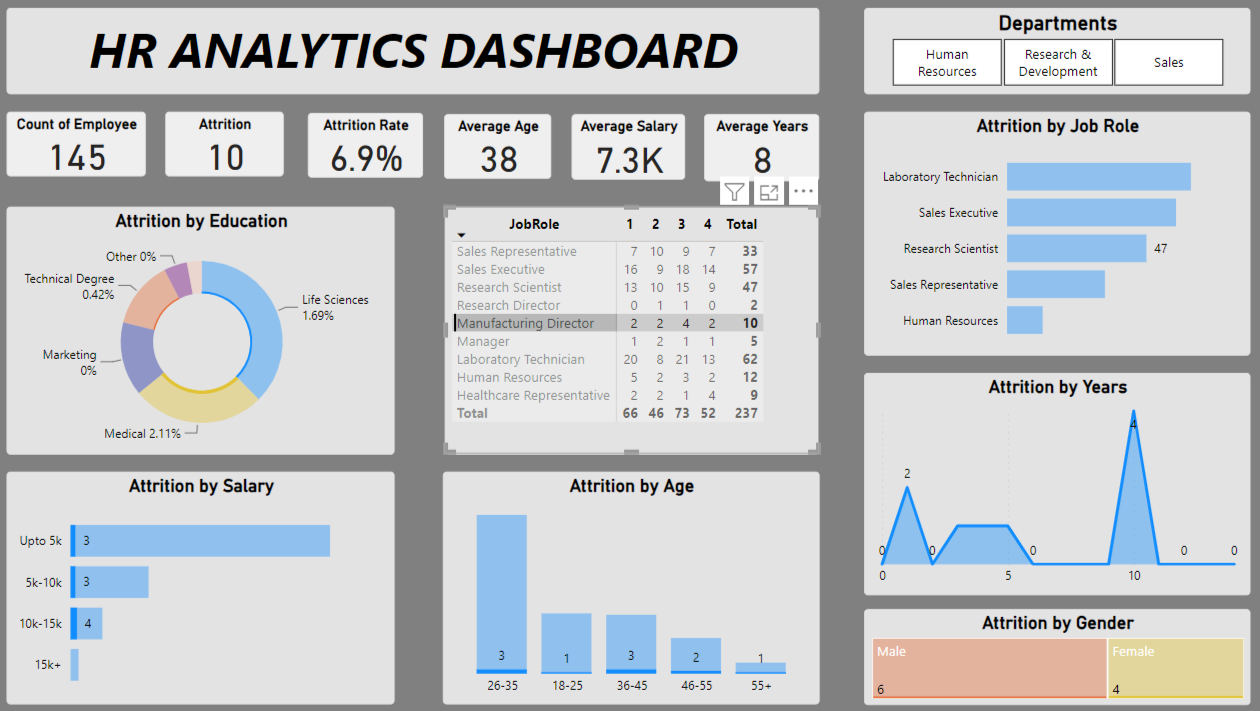

Layout of this report page (visuals, bound fields, positions):
{"tool":"powerbi","page":{"name":"Page 1","canvas":[1280,720],"ordinal":0},"visuals":[{"type":"card","title":"Count of Employee","fields":{"Values":["CountNonNull(HR_Analytics.EmpID)"]},"box":[17,113.8,139.4,64.9],"z":0},{"type":"card","title":"Attrition","fields":{"Values":["Sum(HR_Analytics.AttritionCount)"]},"box":[176.6,113.8,118.1,64.9],"z":1000},{"type":"card","title":"Attrition Rate","fields":{"Values":["HR_Analytics.AttritionRate"]},"box":[319.1,114.9,114.9,64.9],"z":2000},{"type":"card","title":"Average Age ","fields":{"Values":["Avg(HR_Analytics.Age)"]},"box":[455.3,116,107.4,64.9],"z":3000},{"type":"card","title":"Average Salary","fields":{"Values":["Avg(HR_Analytics.MonthlyIncome)"]},"box":[583,116,113.8,66],"z":4000},{"type":"card","title":"Average Years ","fields":{"Values":["Avg(HR_Analytics.YearsAtCompany)"]},"box":[714.9,116,114.9,67],"z":5000},{"type":"donutChart","title":"Attrition by Education","fields":{"Category":["HR_Analytics.EducationField"],"Y":["Sum(HR_Analytics.AttritionCount)"]},"box":[17,208.5,388.3,247.9],"z":6000},{"type":"columnChart","title":"Attrition by Age","fields":{"Category":["HR_Analytics.AgeGroup"],"Y":["Sum(HR_Analytics.AttritionCount)"]},"box":[453.2,473.4,376.6,233],"z":7000},{"type":"pivotTable","fields":{"Rows":["HR_Analytics.JobRole"],"Columns":["HR_Analytics.JobSatisfaction"],"Values":["Sum(HR_Analytics.AttritionCount)"]},"box":[455.3,208.5,374.5,247.9],"z":8000},{"type":"barChart","title":"Attrition by Salary","fields":{"Category":["HR_Analytics.SalarySlab"],"Y":["Sum(HR_Analytics.AttritionCount)"]},"box":[17,473.4,388.3,233],"z":9000},{"type":"barChart","title":"Attrition by Job Role","fields":{"Category":["HR_Analytics.JobRole"],"Y":["Sum(HR_Analytics.AttritionCount)"]},"box":[875.5,113.8,386.2,243.6],"z":10000},{"type":"areaChart","title":"Attrition by Years","fields":{"Category":["HR_Analytics.YearsAtCompany"],"Y":["Sum(HR_Analytics.AttritionCount)"]},"box":[875,375,386.2,222.5],"z":11000},{"type":"treemap","title":"Attrition by Gender","fields":{"Group":["HR_Analytics.Gender"],"Values":["Sum(HR_Analytics.AttritionCount)"]},"box":[875.5,610.6,386.2,95.7],"z":12000},{"type":"slicer","title":"Departments","fields":{"Values":["HR_Analytics.Department"]},"box":[875.5,9.6,386.2,86.2],"z":13000},{"type":"textbox","box":[17,9.6,812.8,86.2],"z":14000}]}

Visuals, with their boxes in screenshot pixels (x1, y1, x2, y2), scaled from the page's 1280x720 canvas onto the 1260x711 screenshot:
"Count of Employee" card: [17,112,154,176]
"Attrition" card: [174,112,290,176]
"Attrition Rate" card: [314,113,427,178]
"Average Age " card: [448,115,554,179]
"Average Salary" card: [574,115,686,180]
"Average Years " card: [704,115,817,181]
"Attrition by Education" donutChart: [17,206,399,451]
"Attrition by Age" columnChart: [446,467,817,698]
pivotTable - HR_Analytics.JobRole x HR_Analytics.JobSatisfaction: [448,206,817,451]
"Attrition by Salary" barChart: [17,467,399,698]
"Attrition by Job Role" barChart: [862,112,1242,353]
"Attrition by Years" areaChart: [861,370,1241,590]
"Attrition by Gender" treemap: [862,603,1242,697]
"Departments" slicer: [862,9,1242,95]
textbox: [17,9,817,95]
